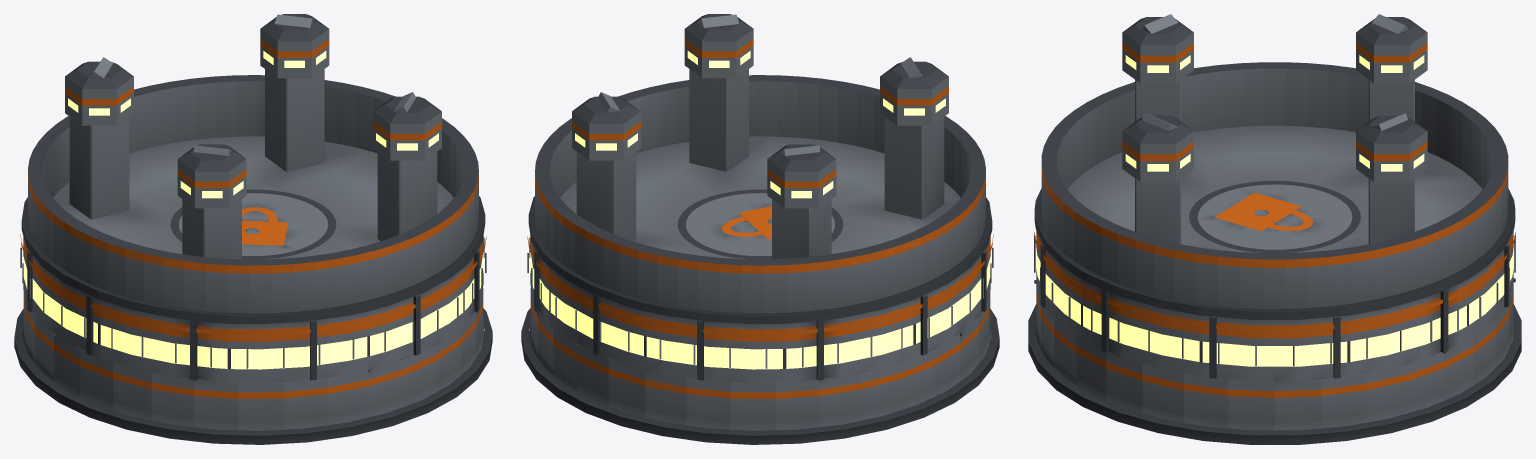
Rendered from jail_s_far.glb.
3 views of the same model, side by side, from view 1: azimuth 30°, elevation 25°; view 2: azimuth 150°, elevation 25°; view 3: azimuth 270°, elevation 25° (orthographic). The views are drawn at different scales.
Visible parts, largest first — view 1: Roof, Base; view 2: Roof, Base; view 3: Roof, Base.
Part boxes in pixels (<box>): Roof: <box>20,14,486,382</box>; Base: <box>14,288,492,444</box>; Roof: <box>527,14,993,382</box>; Base: <box>521,288,999,444</box>; Roof: <box>1034,14,1515,380</box>; Base: <box>1028,278,1521,444</box>.
Size of the model in its own units: 11.74 by 7.13 by 11.74.
